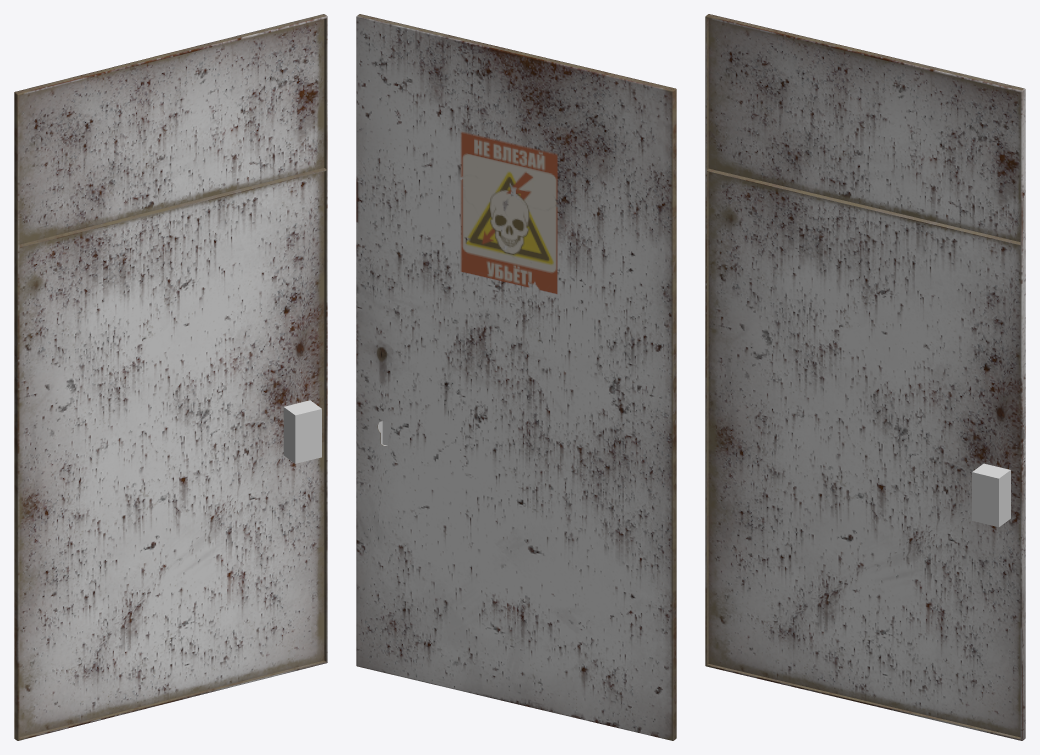
The model's file is elect door 3.fbx.
The picture shows the model from 3 angles, left to right: view 1: azimuth 30°, elevation 25°; view 2: azimuth 150°, elevation 25°; view 3: azimuth 330°, elevation 25°; orthographic projection.
Parts seen in each view (by area): view 1: Куб.002, Cube; view 2: Куб.002; view 3: Куб.002, Cube.
Boxes of the visible parts, <box> form: Куб.002: <box>14,14,327,740</box>; Cube: <box>283,400,321,463</box>; Куб.002: <box>356,14,676,740</box>; Куб.002: <box>705,14,1025,740</box>; Cube: <box>972,463,1010,527</box>.
Bounding box in the file's own units: 75.96 × 150 × 5.15.
